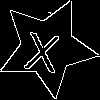X: (22, 22, 63, 74)
